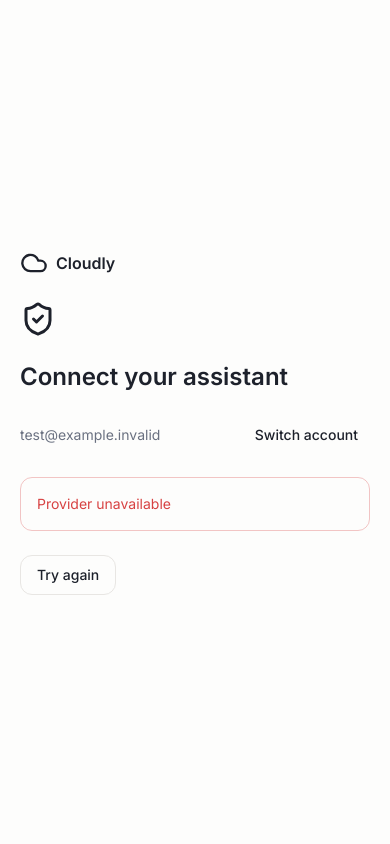
Test case: OAuth consent decisions › keeps the request recoverable after provider failure
Click the button "Try again" at (68, 575), box [20, 555, 116, 595]
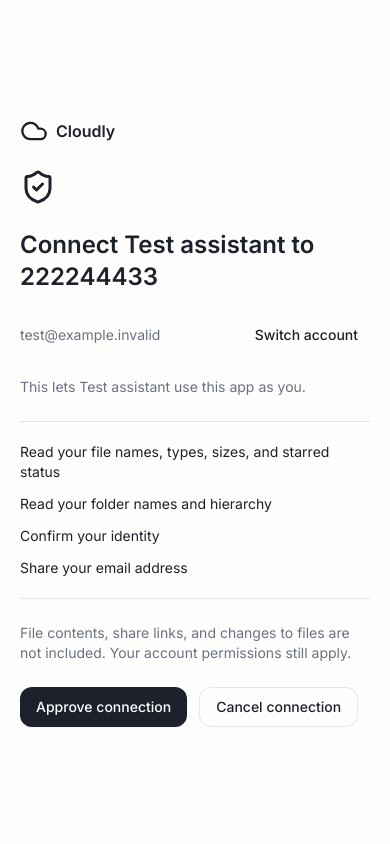
Now the button "Approve connection" is shown, box [20, 687, 187, 727]
